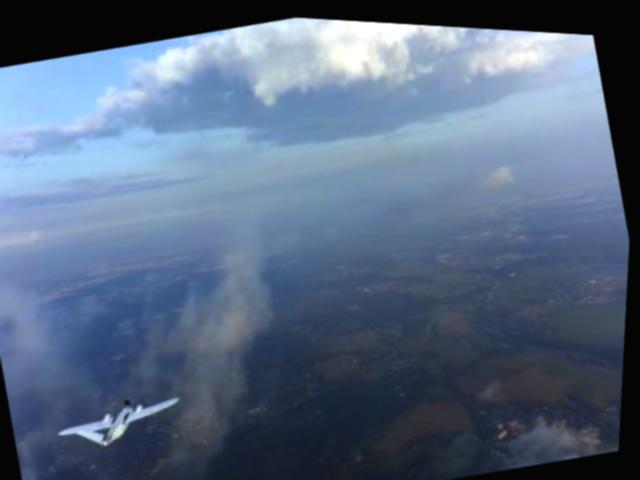uav: (56, 375, 195, 460)
